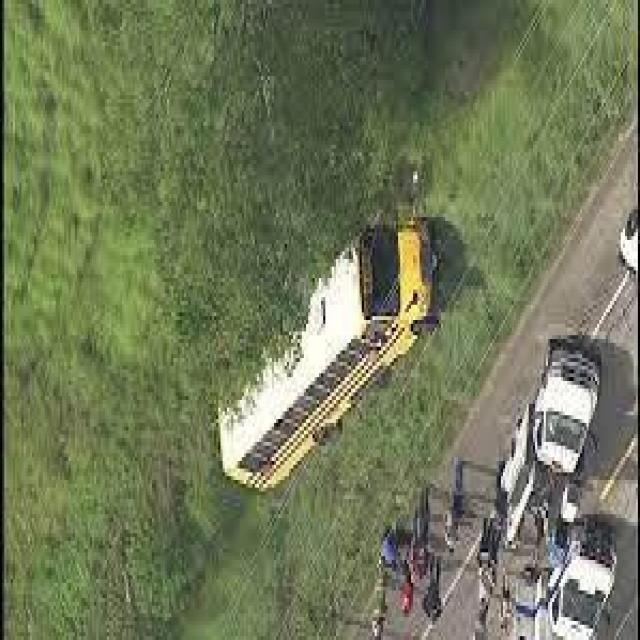severe: (215, 215, 442, 505)
